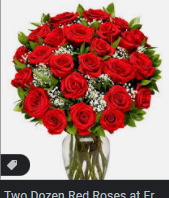RedRose: (22, 85, 54, 115), (69, 103, 97, 133), (62, 21, 97, 45), (103, 54, 132, 81), (58, 72, 87, 98), (41, 106, 68, 133), (104, 84, 131, 110), (80, 51, 106, 77), (100, 107, 125, 133), (120, 27, 148, 50), (131, 54, 155, 79), (50, 51, 75, 75), (30, 44, 56, 67), (45, 24, 70, 47), (50, 9, 78, 28), (96, 17, 117, 40), (9, 67, 32, 86), (82, 8, 108, 24), (109, 13, 132, 31), (27, 25, 49, 43), (89, 41, 116, 55), (137, 86, 151, 111)
